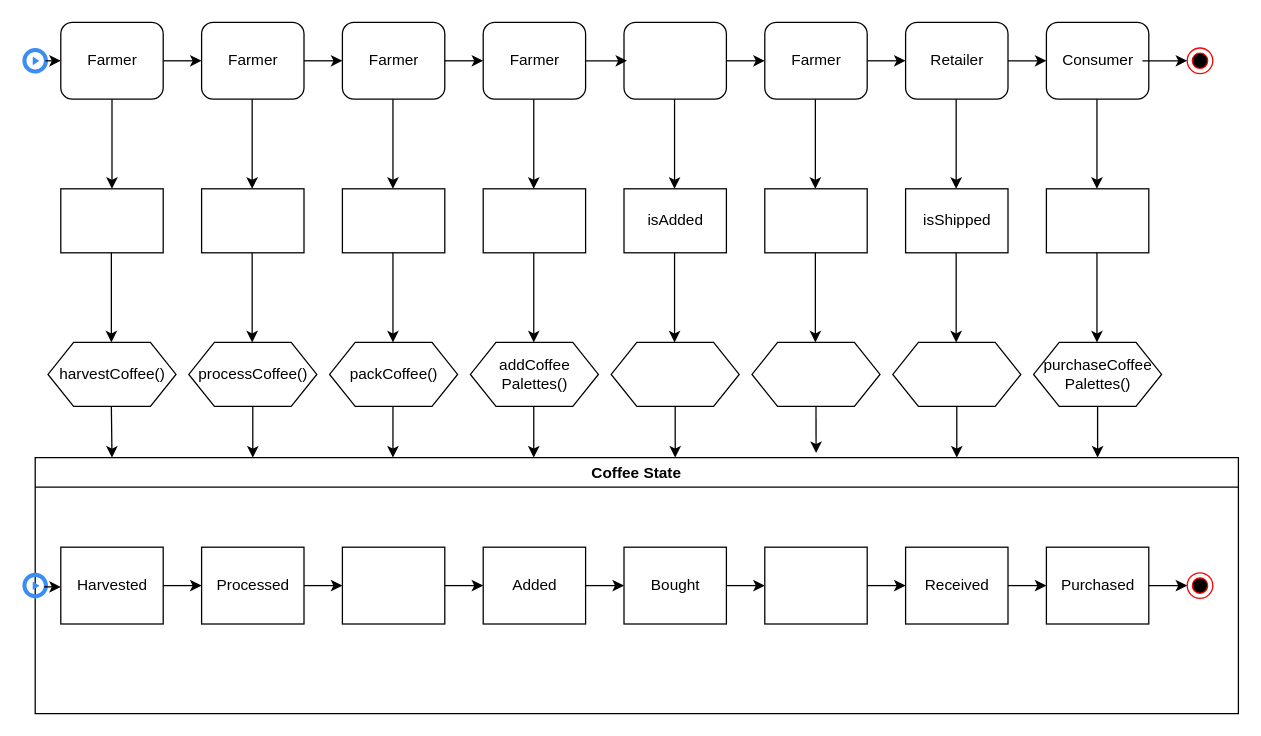
Image size: 1261x736. Some labels were removed from this diagram. Each missing label, with the centre of its shape:
buyCoffee Palettes(): (674,373)
Distributor: (674,60)
isBought: (815,220)
isHarvested: (252,220)
isPacked: (534,220)
isProcessed: (393,220)
isReceived: (1097,220)
Packed: (393,585)
receiveCoffee Palettes(): (956,373)
shipCoffee Palettes(): (815,373)
Shipped: (815,585)
